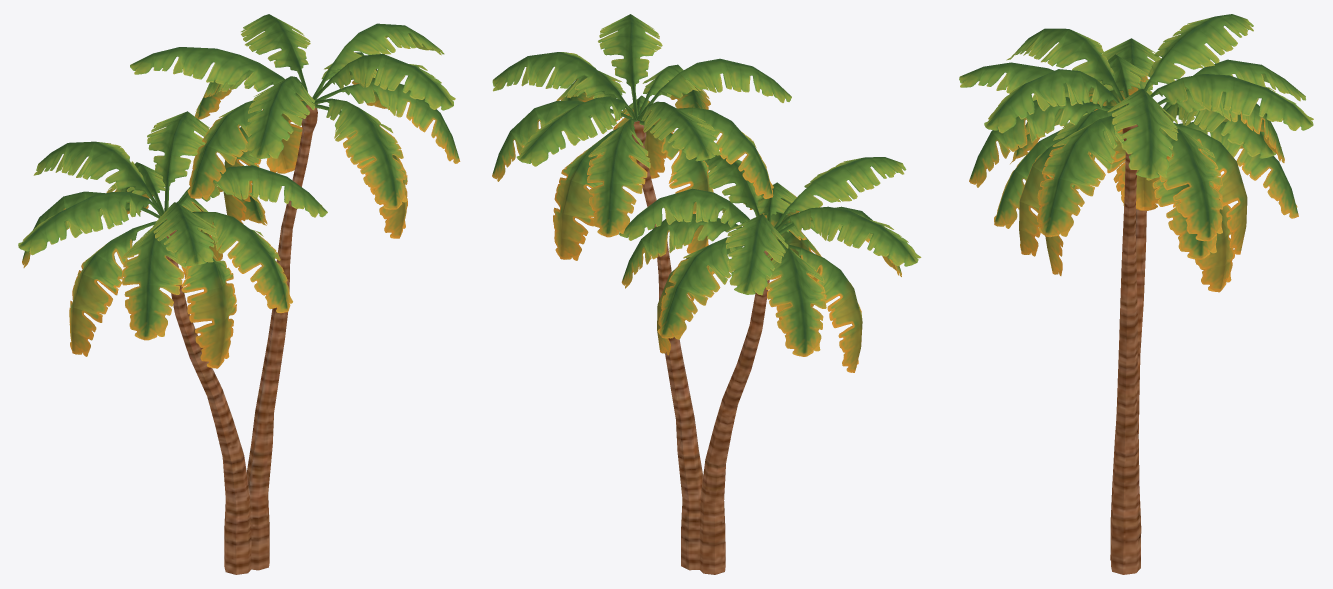
The model's file is palm-pair.glb.
3 views of the same model, side by side, from view 1: azimuth 30°, elevation 25°; view 2: azimuth 150°, elevation 25°; view 3: azimuth 270°, elevation 25° (orthographic). The views are drawn at different scales.
Visible parts, largest first — view 1: Leaf_4, Bark_4; view 2: Leaf_4, Bark_4; view 3: Leaf_4, Bark_4.
Boxes of the visible parts, x1,y1,x2,y2 form: Leaf_4: (18,14,460,368); Bark_4: (166,105,317,574); Leaf_4: (492,14,921,372); Bark_4: (632,121,772,574); Leaf_4: (959,14,1313,292); Bark_4: (1110,124,1146,574).
Size of the model in its own units: 5.31 by 6 by 3.59.
Materials: 4 (4 with a texture image).
